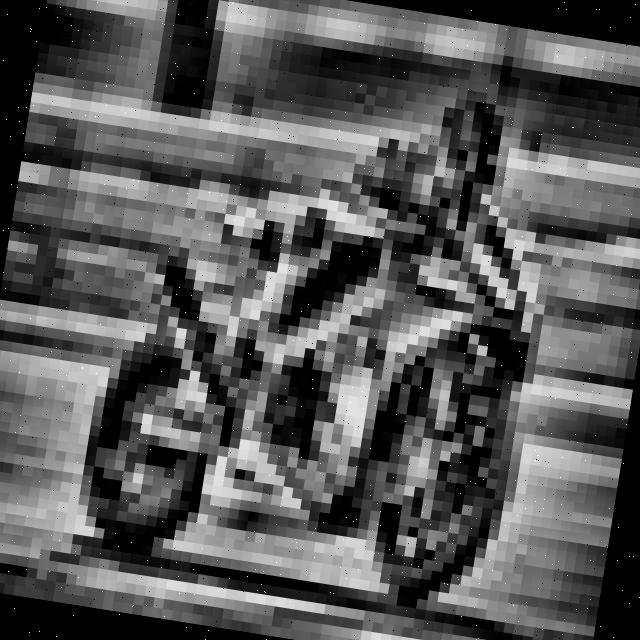mopeds: (58, 134, 600, 634)
